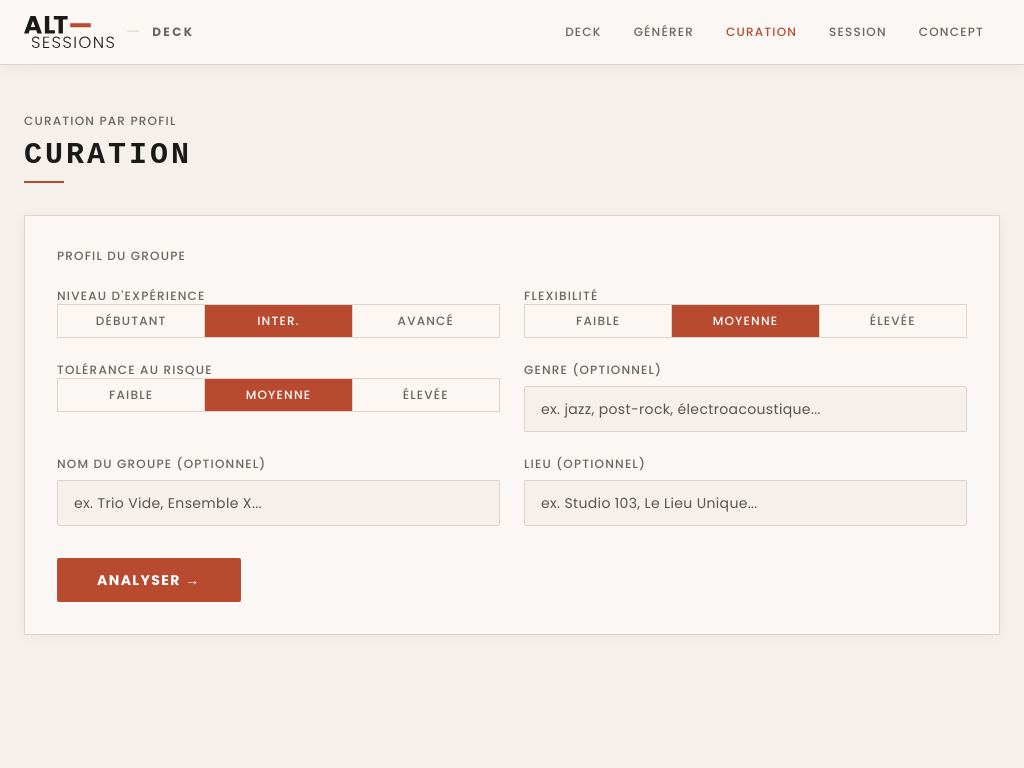
Test: Curate page › runs curation and shows results
Click the button "ANALYSER →": (149, 580) x1=57 y1=558 x2=241 y2=602
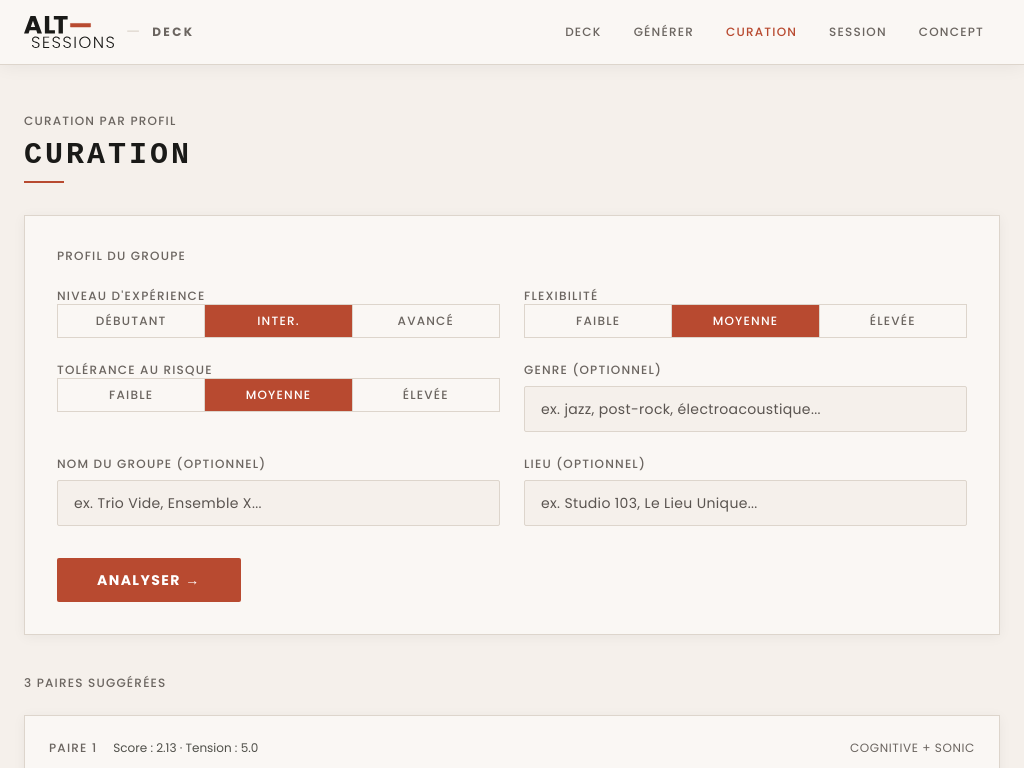
Expected: the element that starts with "Paire" is shown, x1=24 y1=715 x2=1000 y2=767
